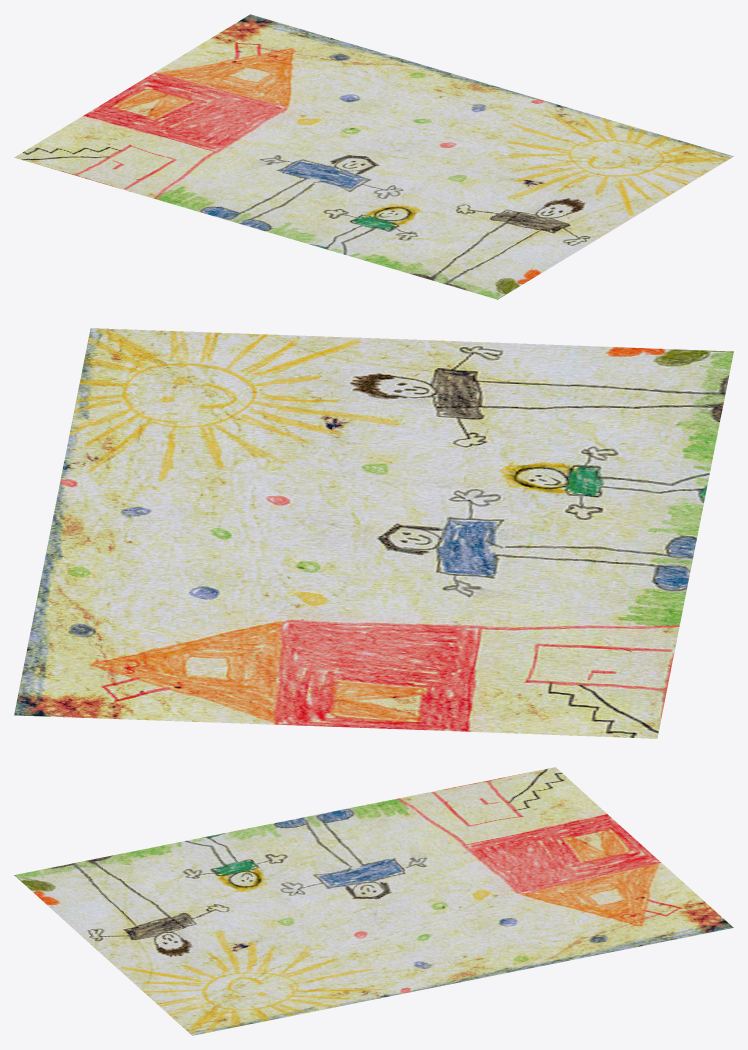
The model's file is Paper5.fbx.
3 views of the same model, one above another, from view 1: azimuth 30°, elevation 25°; view 2: azimuth 150°, elevation 25°; view 3: azimuth 270°, elevation 25° (orthographic). The views are drawn at different scales.
Parts seen in each view (by area): view 1: pPlane5; view 2: pPlane5; view 3: pPlane5.
Part boxes in pixels (<box>): pPlane5: <box>14,14,733,299</box>; pPlane5: <box>14,328,733,738</box>; pPlane5: <box>14,767,733,1035</box>.
Size of the model in its own units: 5.29 by 0.0022 by 6.
Materials: 1 (1 with a texture image).
